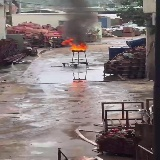fire: (61, 38, 88, 50)
